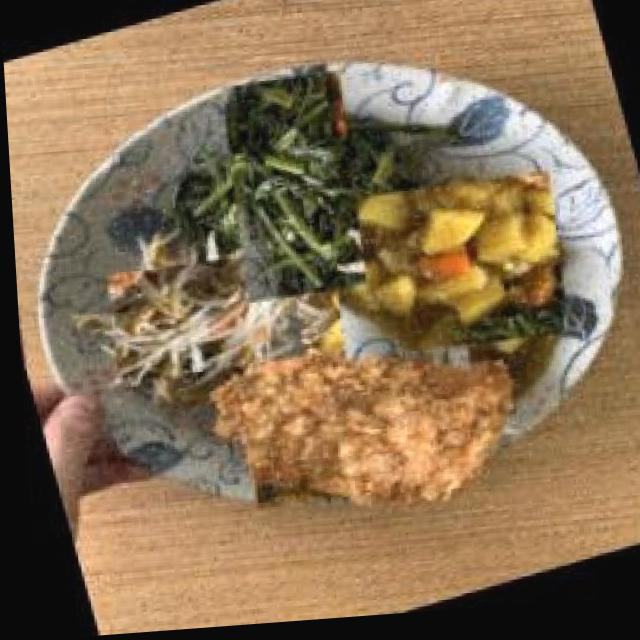curry: (298, 145, 589, 401)
fried_chicken: (214, 317, 499, 546)
mung_bean_sprouts: (86, 226, 317, 412)
water_spinach: (172, 72, 408, 310)
